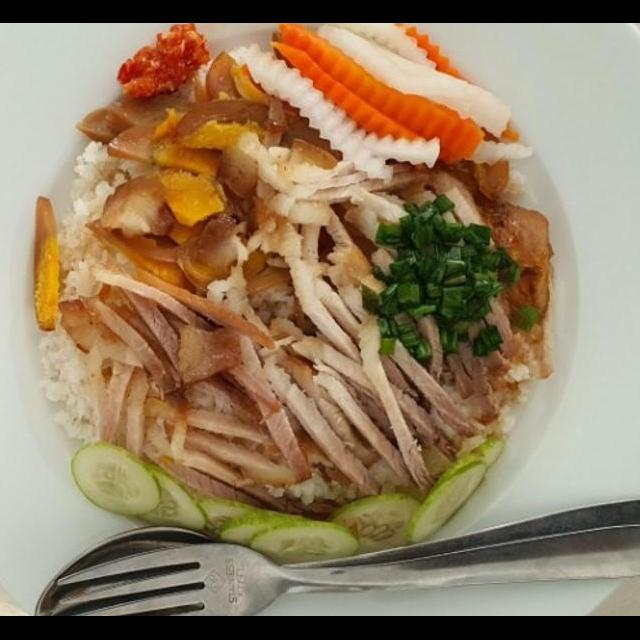com: (55, 134, 147, 308), (35, 328, 109, 450)
dua chua: (223, 24, 539, 190)
suon: (72, 258, 513, 522), (261, 134, 520, 430)
trung: (72, 48, 294, 230), (29, 190, 69, 336)
